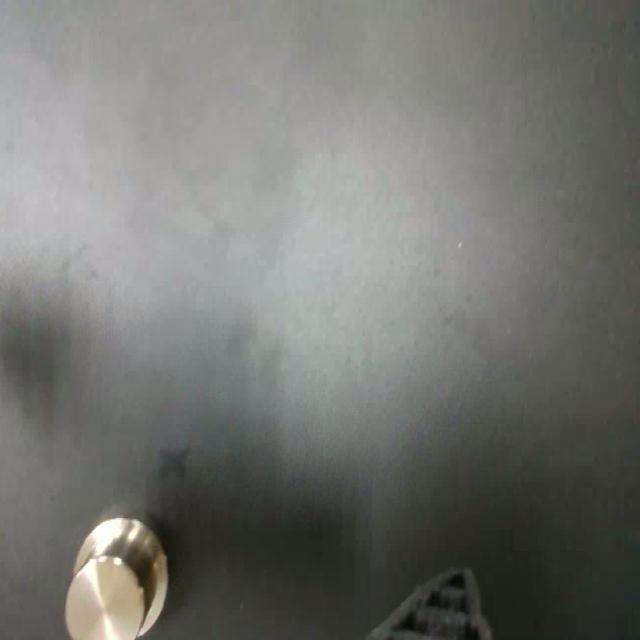sensor: (64, 516, 169, 639)
